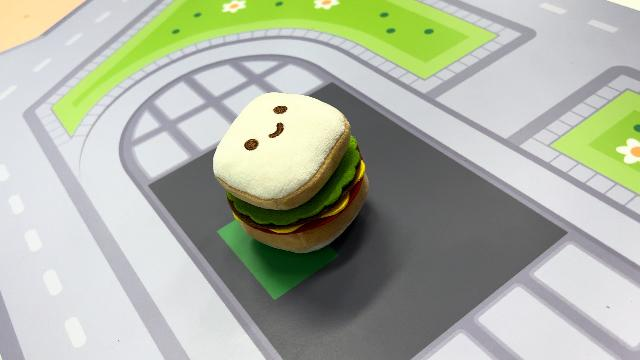sandwich: (210, 90, 372, 255)
